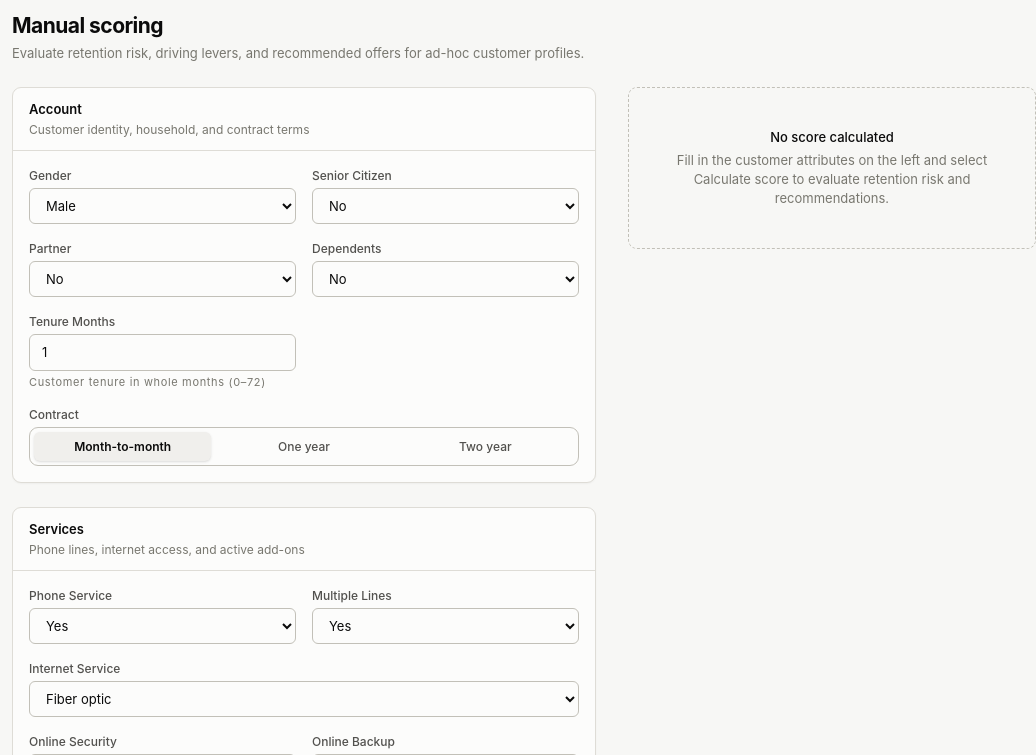
Scenario: ScorePage and Manual Scoring Form › REVERSE: Phone "No" -> "Yes" resets Multiple Lines to "No"
Select "No" in the dropdown labelled "Phone Service": coordinates (162, 626) x1=29 y1=608 x2=296 y2=644
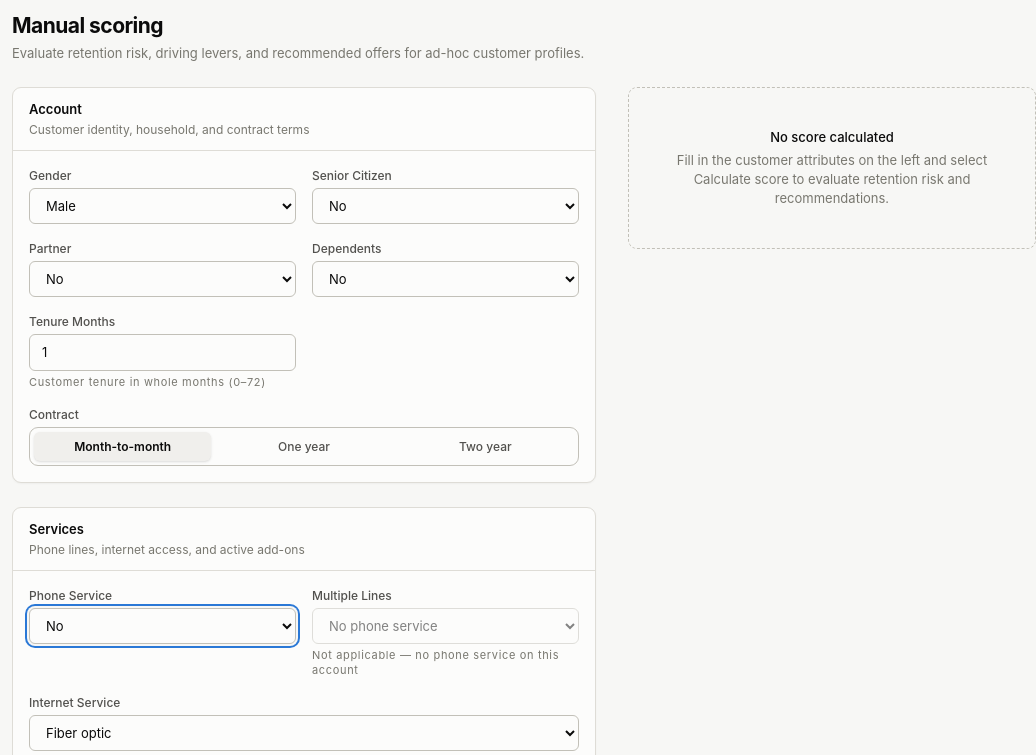
Transition back to Yes
Select "Yes" in the dropdown labelled "Phone Service": coordinates (162, 626) x1=29 y1=608 x2=296 y2=644
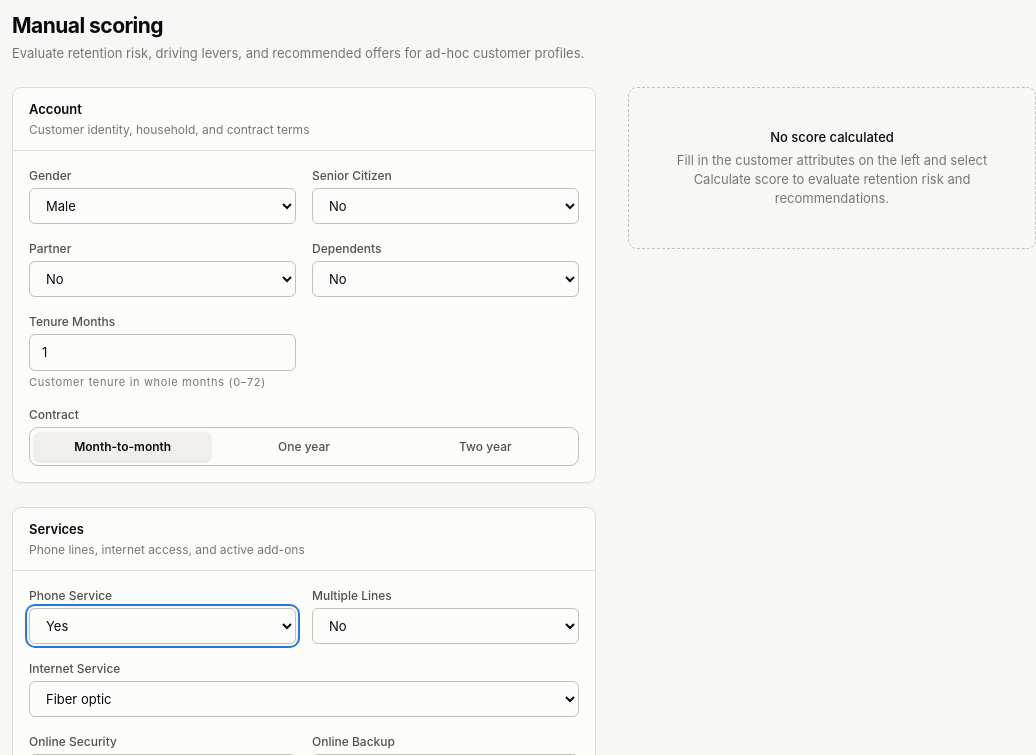
Now the dropdown labelled "Multiple Lines" is enabled, box x1=312 y1=608 x2=579 y2=644
Now the dropdown labelled "Multiple Lines" shows "No", box x1=312 y1=608 x2=579 y2=644
